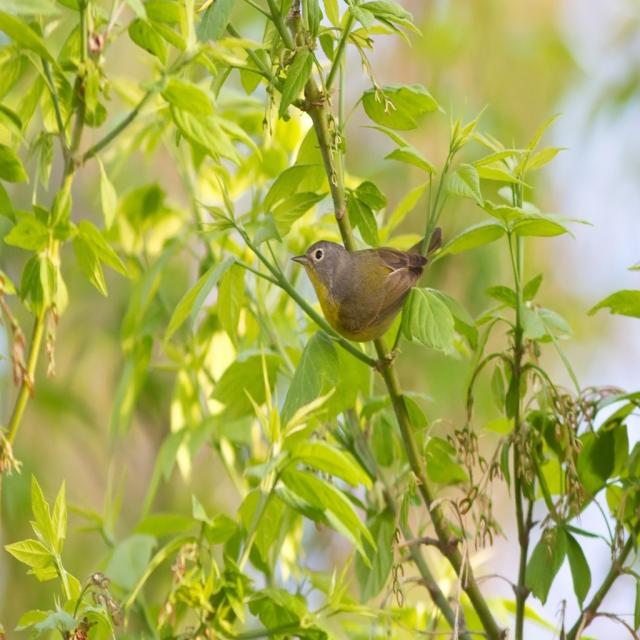bird: (287, 235, 448, 390)
